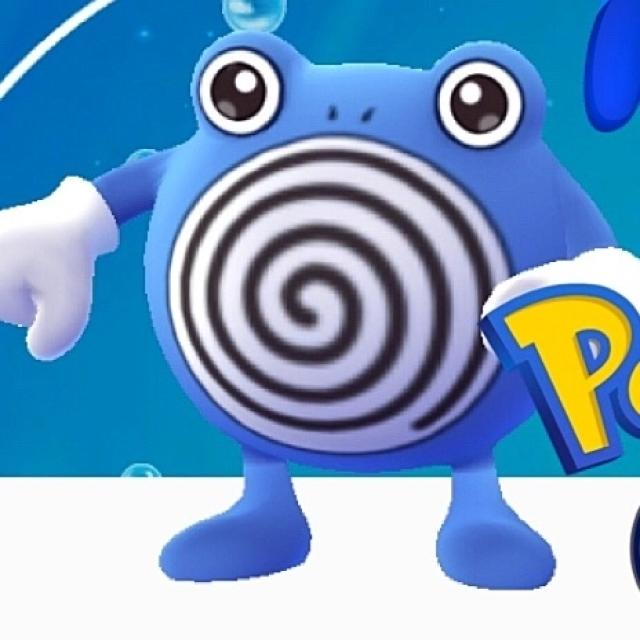Poliwhirl: (79, 29, 552, 576)
